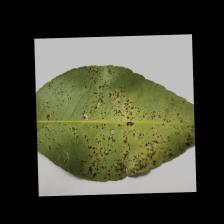canker: (101, 95, 165, 167)
